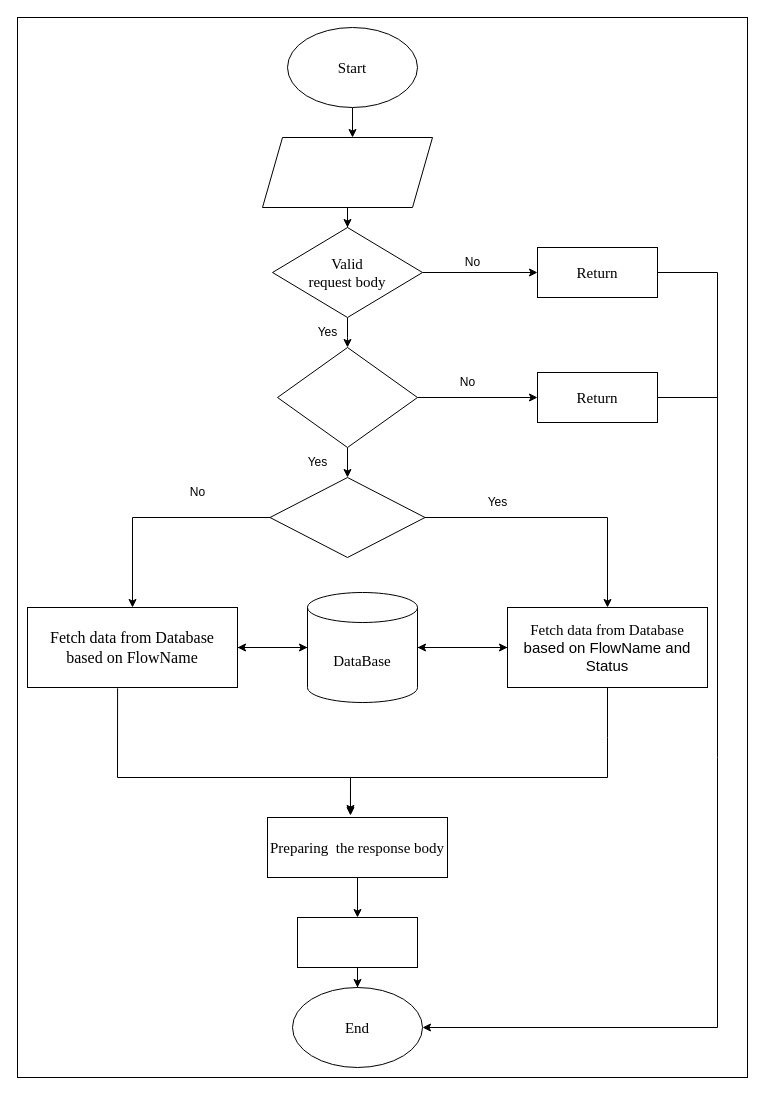
Some shapes in this 765 by 1095 pixel diagram are drawn without their labels. The shapes that lost their labels are listed below. From the top down, each one's centre as x and y in pixels, then its label:
point 347,172: Input request body (EmpId, FlowName)
point 347,397: Flow name exist
point 347,517: Status in request body
point 357,942: Return the response body
